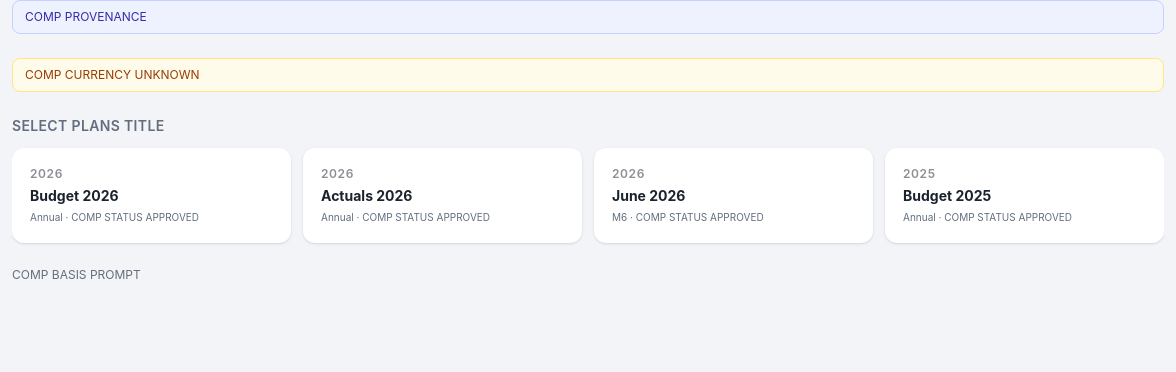
ComparisonTab — evidence-safe comparison › disables plans with an incompatible kind or period after the baseline selection
Click the button with test id "comparison-plan-option-0". click: (46, 174)
box: left=12, top=148, right=291, bottom=243
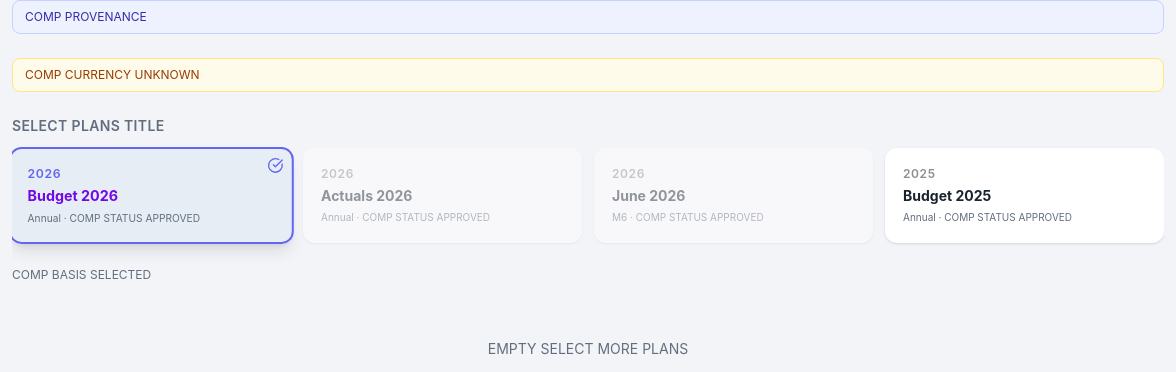
Expected: the button with test id "comparison-plan-option-3" is enabled, left=885, top=148, right=1164, bottom=243
Expected: the button with test id "comparison-plan-option-1" is disabled, left=303, top=148, right=582, bottom=243
Expected: the button with test id "comparison-plan-option-2" is disabled, left=594, top=148, right=873, bottom=243
